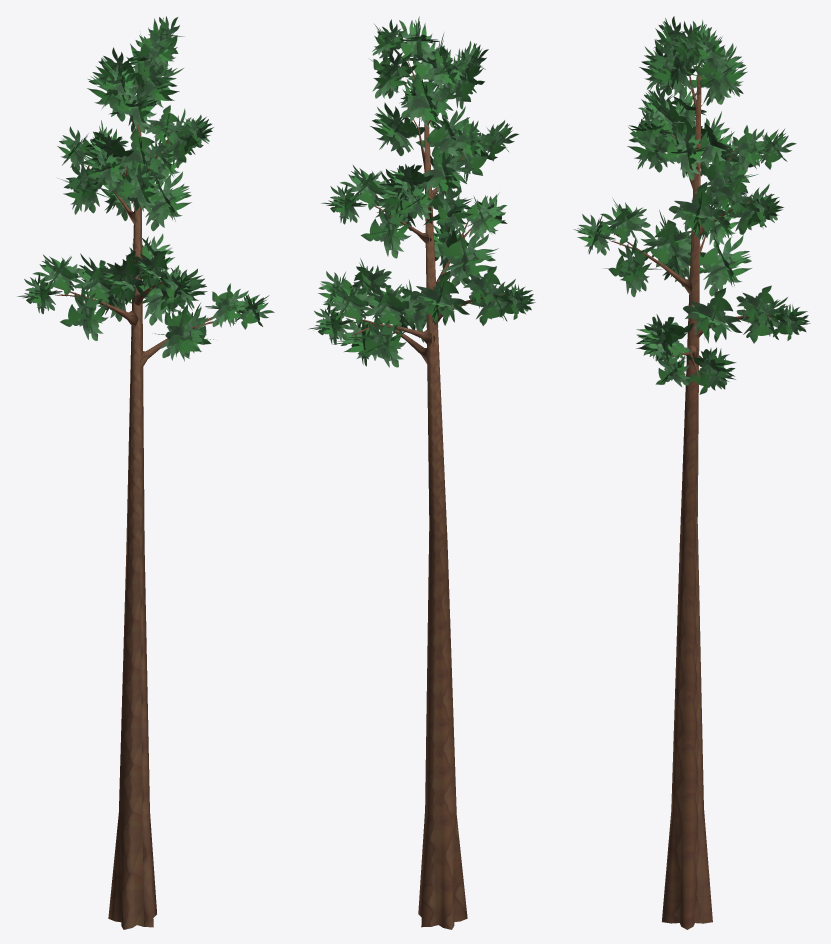
Rendered from SM_Tree_04.glb.
The picture shows the model from 3 angles, left to right: view 1: azimuth 30°, elevation 25°; view 2: azimuth 150°, elevation 25°; view 3: azimuth 270°, elevation 25°; orthographic projection. The views are drawn at different scales.
Visible parts, largest first — view 1: SM_Tree_04; view 2: SM_Tree_04; view 3: SM_Tree_04.
Boxes of the visible parts, bbox=[...] form: SM_Tree_04: bbox=[17, 16, 274, 929]; SM_Tree_04: bbox=[308, 16, 535, 929]; SM_Tree_04: bbox=[573, 16, 810, 929].
Bounding box in the file's own units: 4.71 × 17.05 × 4.17.
2 materials, 2 textured.
